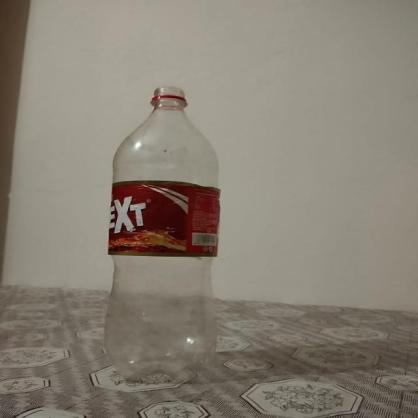bottle: (105, 87, 221, 382)
label: (111, 183, 224, 259)
